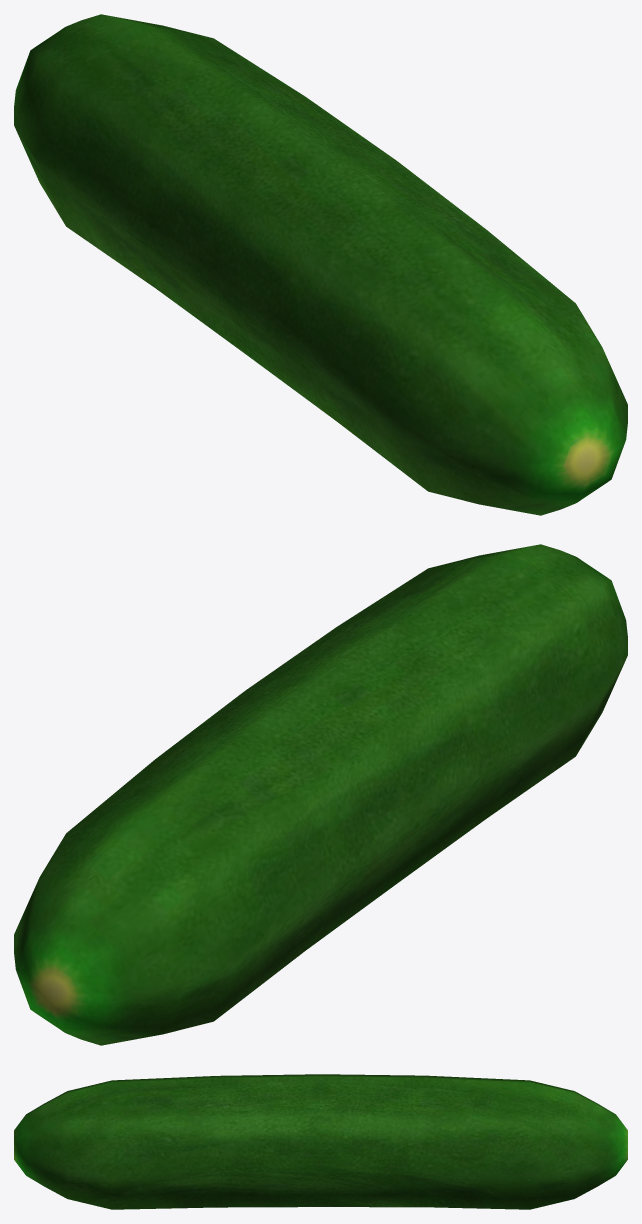
The model's file is pepino.glb.
3 views of the same model, one above another, from view 1: azimuth 30°, elevation 25°; view 2: azimuth 150°, elevation 25°; view 3: azimuth 270°, elevation 25° (orthographic). The views are drawn at different scales.
Parts seen in each view (by area): view 1: pepino; view 2: pepino; view 3: pepino.
Part boxes in pixels (bbox=[...]): pepino: bbox=[14, 14, 627, 515]; pepino: bbox=[14, 544, 627, 1045]; pepino: bbox=[14, 1074, 627, 1209].
Bounding box in the file's own units: 0.1005 × 0.1011 × 0.4321.
Materials: 1 (1 with a texture image).
